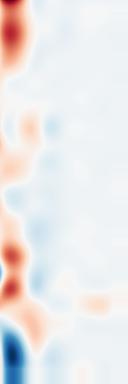filament: (0, 0, 38, 73)
